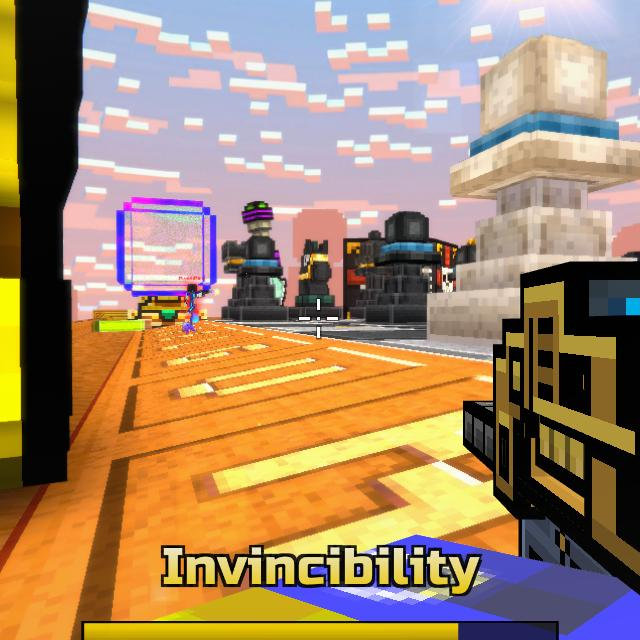Enemy: (184, 283, 202, 310)
